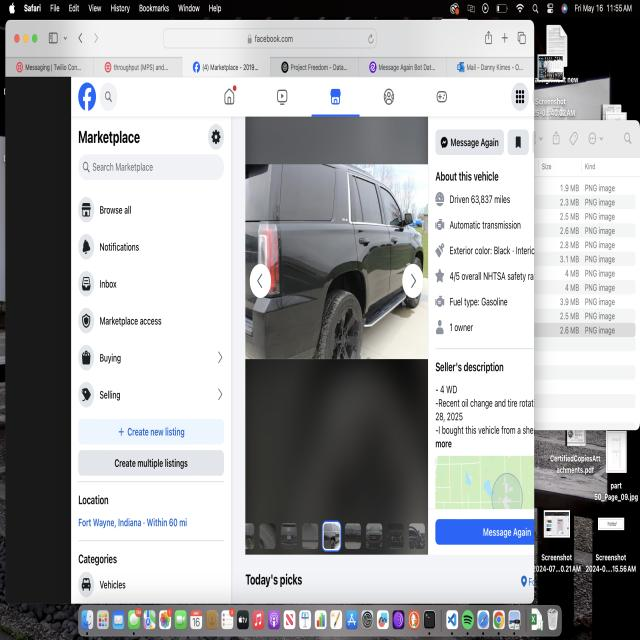message_button: (437, 518, 533, 545)
